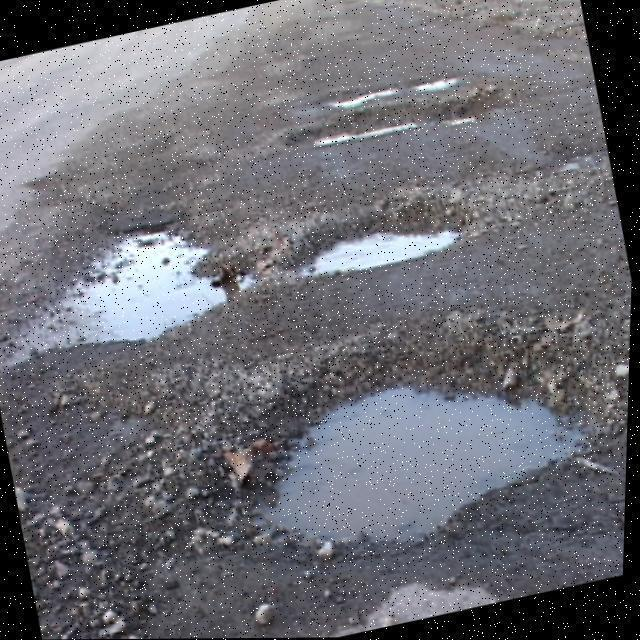Pothole: (210, 328, 629, 562), (2, 195, 480, 367), (292, 100, 482, 150), (321, 89, 398, 108), (408, 74, 467, 92)
